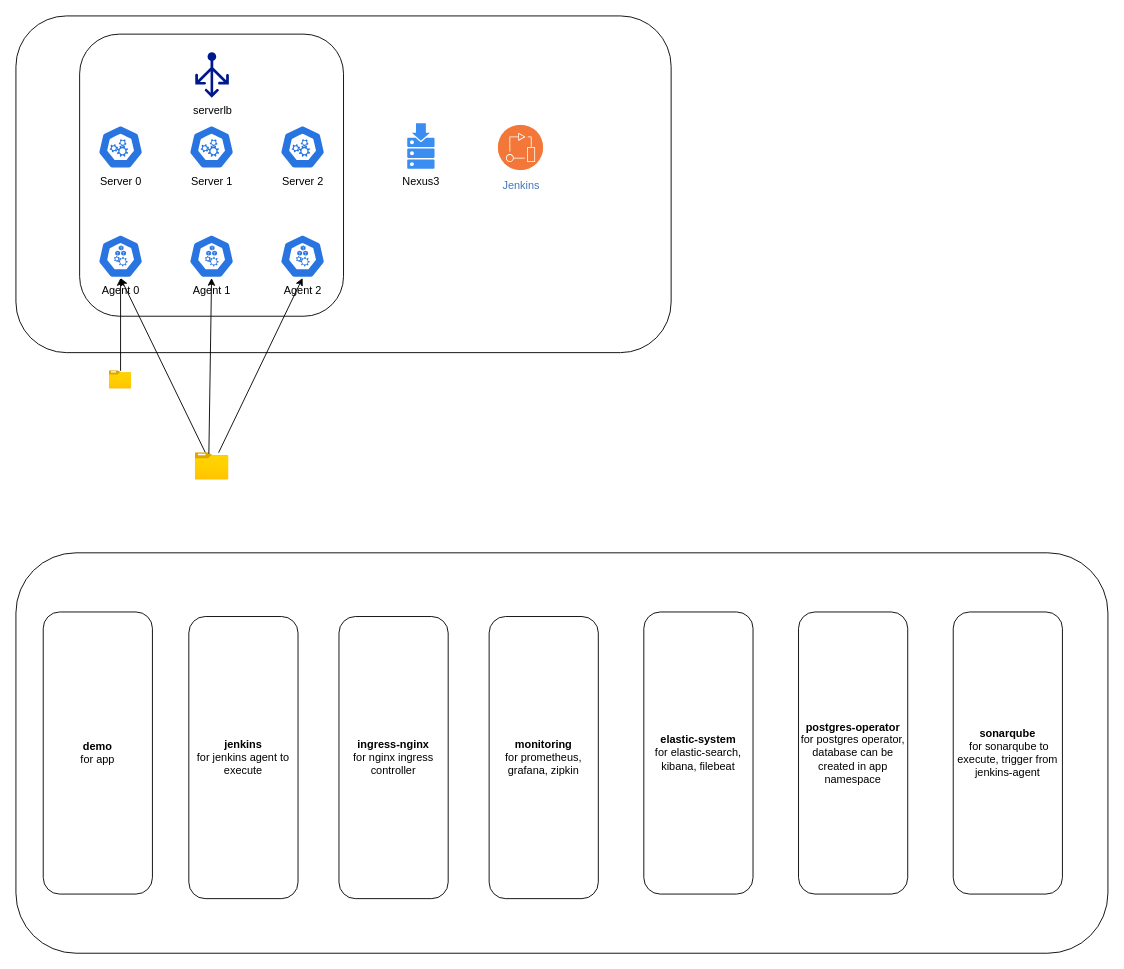
The diagram is 1124 pixels wide and 969 high, and some of its shapes have lost their labels. The shapes that lost their labels are listed below. From the top down, each one's box as (x1, y1, x2, y2) in pixels, then its label:
(79, 33, 344, 316): k3d
(15, 15, 671, 353): Docker
(109, 370, 131, 389): /var/lib/rancher/k3s/storage different folder for each node
(195, 452, 228, 480): /mnt/shared same folder for all nodes
(15, 552, 1108, 953): namespaces usage in the example
